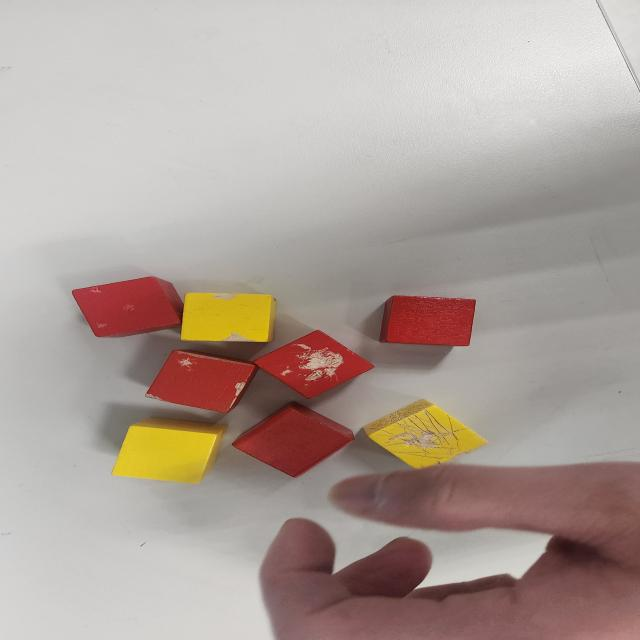broken: (362, 399, 492, 473), (255, 332, 378, 400), (143, 349, 260, 414), (71, 276, 184, 338), (180, 291, 278, 344)
red: (230, 401, 355, 479), (378, 297, 475, 345)
yellow: (110, 418, 224, 484)
